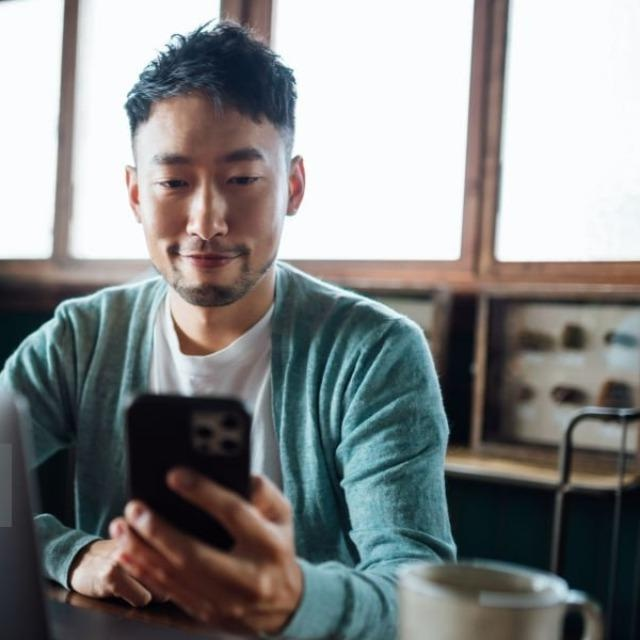Sin_Casco_Mascarrilla: (120, 24, 304, 308)
